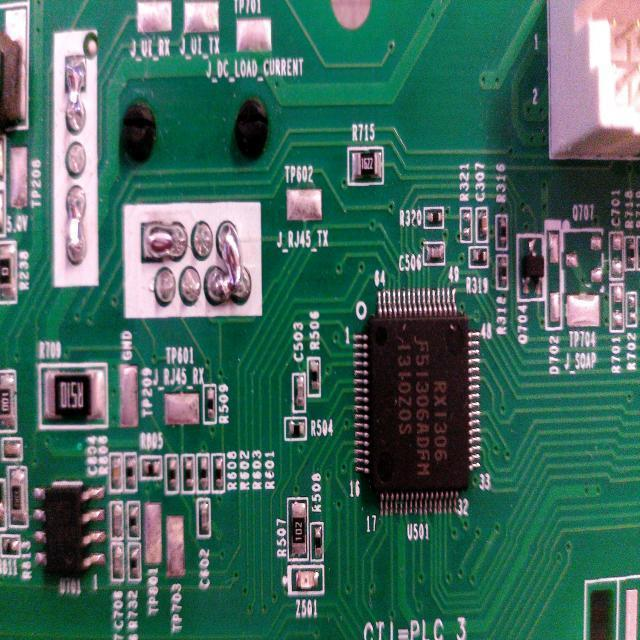Soldering shorted: (203, 218, 253, 314), (63, 182, 90, 270), (64, 56, 86, 134)
